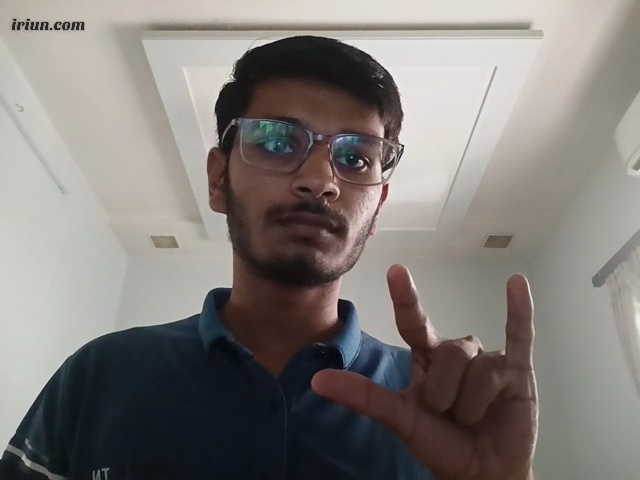I Love You: (305, 261, 562, 480)
